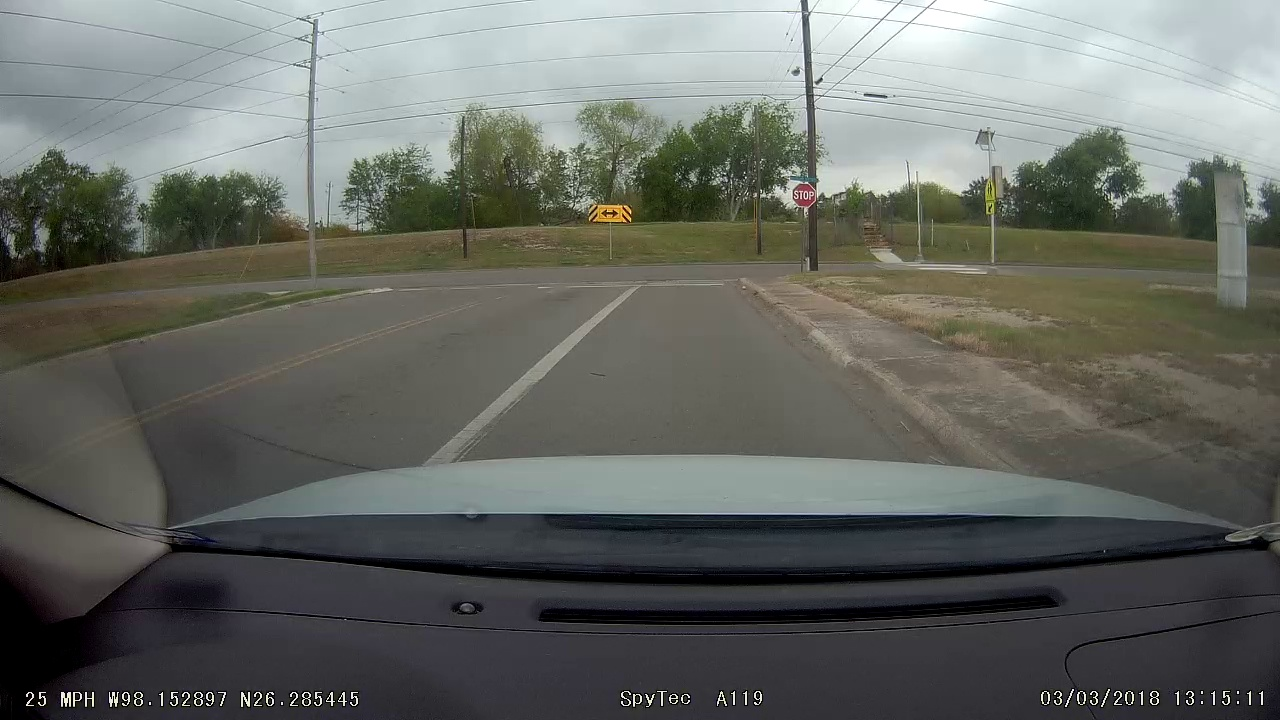blurredLine: (460, 271, 645, 313), (456, 271, 645, 312)
